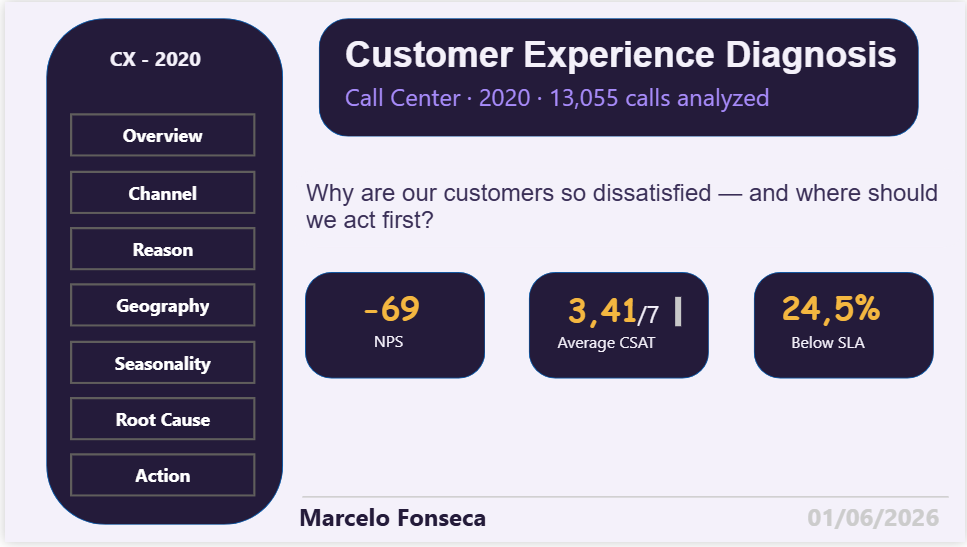

What the dashboard file says about the page in this screenshot:
{"tool":"powerbi","page":{"name":"Cover1","canvas":[1280,720],"ordinal":0},"visuals":[{"type":"shape","box":[54.4,21.1,315.8,675.4],"z":0},{"type":"textbox","box":[135.5,50.9,149.1,57.9],"z":1000},{"type":"shape","box":[417.5,21.1,800,157.9],"z":2000},{"type":"textbox","box":[449.1,38.6,756.1,82.5],"z":3000},{"type":"textbox","box":[449.1,100,584.2,57.9],"z":4000},{"type":"textbox","box":[386,221.1,894.7,105.3],"z":5000},{"type":"shape","box":[400,359.6,240.4,142.1],"z":6000},{"type":"shape","box":[699.1,359.6,240.4,142.1],"z":7000},{"type":"shape","box":[998.2,359.6,240.4,142.1],"z":8000},{"type":"textbox","box":[470.6,371.9,101.8,77.2],"z":9000},{"type":"textbox","box":[745.6,375,135.1,77.2],"z":10000},{"type":"textbox","box":[1029.4,371.9,170.2,77.2],"z":11000},{"type":"textbox","box":[487.3,431.6,68.4,50.9],"z":12000},{"type":"textbox","box":[838.6,387.7,68.4,50.9],"z":13000},{"type":"textbox","box":[731.6,433.3,163.2,50.9],"z":14000},{"type":"textbox","box":[1042.5,433.3,143.9,50.9],"z":15000},{"type":"shape","box":[396.5,629.8,861.4,59.6],"z":16000},{"type":"textbox","box":[386,659.6,300,59.6],"z":17000},{"type":"textbox","box":[1064.9,659.6,193,59.6],"z":18000},{"type":"actionButton","title":"Overview","box":[86.4,149.1,247.4,57.9],"z":19000},{"type":"actionButton","box":[86.4,224.6,247.4,57.9],"z":20000},{"type":"actionButton","box":[86.4,300,247.4,57.9],"z":21000},{"type":"actionButton","box":[86.4,375.4,247.4,57.9],"z":22000},{"type":"actionButton","box":[86.4,450.9,247.4,57.9],"z":23000},{"type":"actionButton","box":[86.4,526.3,247.4,57.9],"z":24000},{"type":"actionButton","box":[86.4,601.8,247.4,57.9],"z":25000}]}

Visuals, with their boxes in screenshot pixels (x1, y1, x2, y2), scaled from the page's 1280x720 canvas onto the 967x547 screenshot:
shape: 41,16,280,529
textbox: 102,39,215,83
shape: 315,16,920,136
textbox: 339,29,910,92
textbox: 339,76,781,120
textbox: 292,168,966,248
shape: 302,273,484,381
shape: 528,273,710,381
shape: 754,273,936,381
textbox: 356,283,432,341
textbox: 563,285,665,344
textbox: 778,283,906,341
textbox: 368,328,420,367
textbox: 634,295,685,333
textbox: 553,329,676,368
textbox: 788,329,896,368
shape: 300,478,950,524
textbox: 292,501,518,546
textbox: 804,501,950,546
"Overview" actionButton: 65,113,252,157
actionButton: 65,171,252,215
actionButton: 65,228,252,272
actionButton: 65,285,252,329
actionButton: 65,343,252,387
actionButton: 65,400,252,444
actionButton: 65,457,252,501
